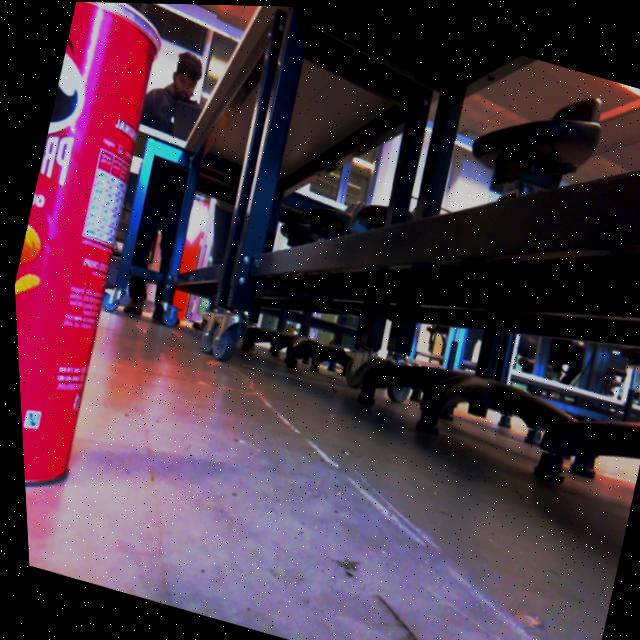redpringles: (0, 0, 221, 527)
